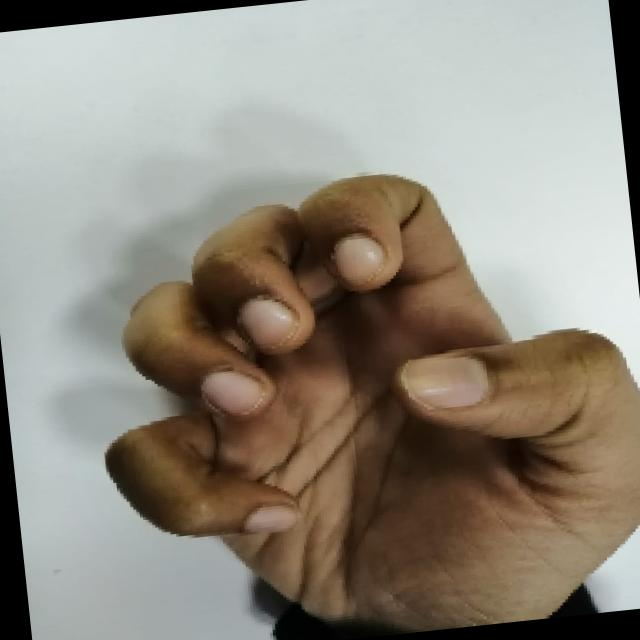Nail: (402, 355, 489, 409), (239, 296, 297, 351), (200, 369, 265, 415), (331, 234, 384, 285), (247, 504, 298, 533)
